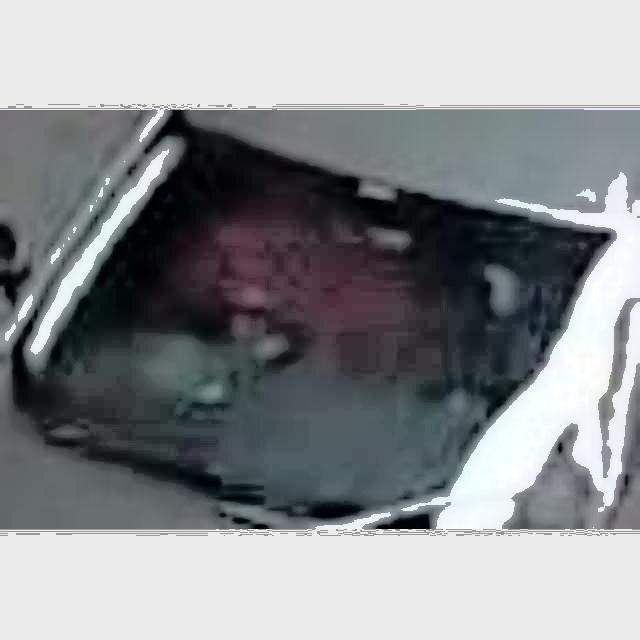tidak-pakai: (171, 165, 458, 424)
